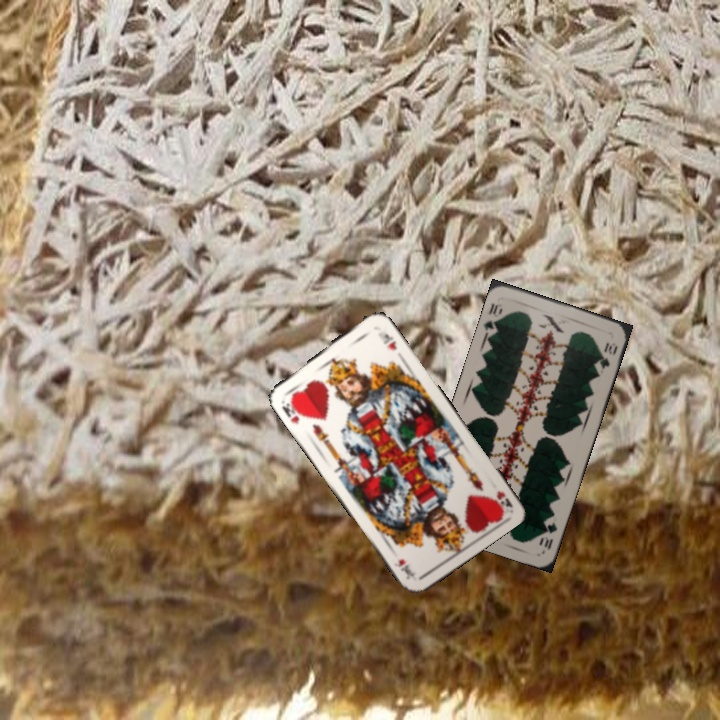G10: (480, 299, 505, 338), (535, 518, 560, 553)
HK: (277, 393, 306, 427), (492, 487, 515, 514)
